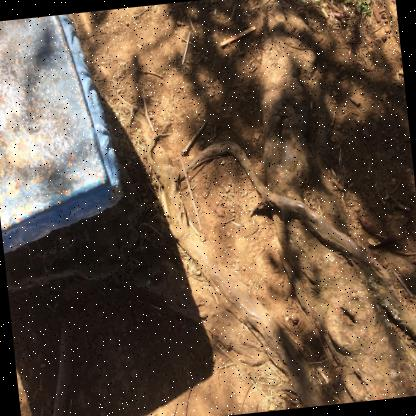Plastic straw: (178, 151, 202, 230)
Unlabeled litter: (182, 32, 190, 64)
